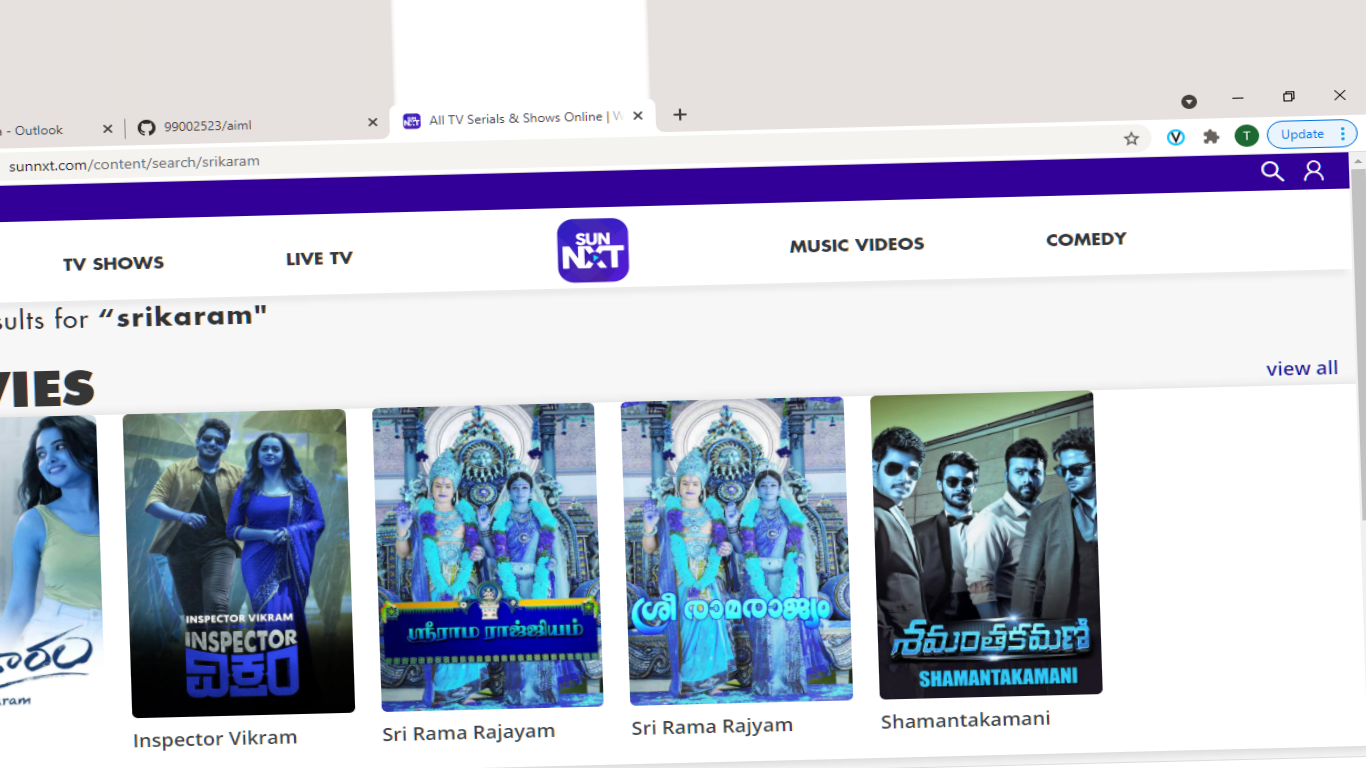profileicon: (1293, 157, 1329, 185)
resultsfound: (1, 303, 285, 334)
searchicon: (1242, 155, 1293, 188)
